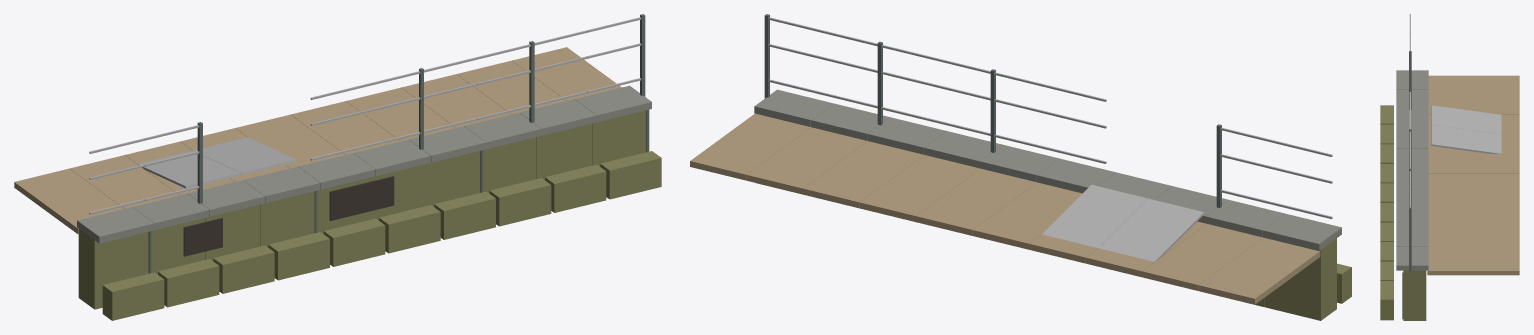
The model's file is SM_MuroRampa_v1_BajoValla_e1_Danado_LOD0.fbx.
3 renders of one model, left to right at view 1: azimuth 30°, elevation 25°; view 2: azimuth 150°, elevation 25°; view 3: azimuth 270°, elevation 25°, orthographic. The views are drawn at different scales.
Visible parts, largest first — view 1: SM_muro_rampa_v5_LOD0; view 2: SM_muro_rampa_v5_LOD0; view 3: SM_muro_rampa_v5_LOD0.
Part boxes in pixels (x1,y1,x2,y2): SM_muro_rampa_v5_LOD0: [14, 14, 661, 320]; SM_muro_rampa_v5_LOD0: [690, 14, 1351, 320]; SM_muro_rampa_v5_LOD0: [1380, 14, 1519, 320].
Bounding box in the file's own units: 10.03 × 2.7 × 3.02.
